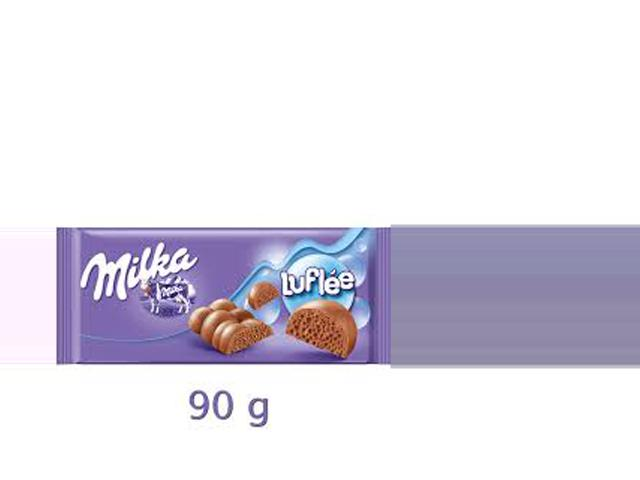chocolate: (62, 225, 392, 363)
